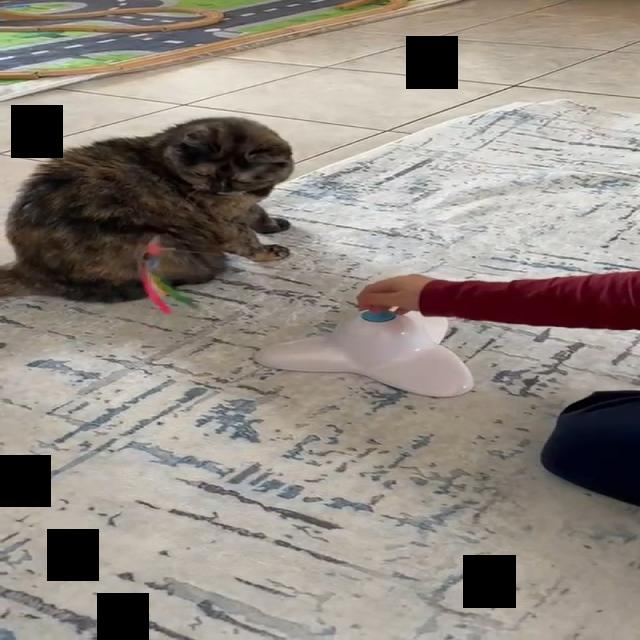authorized: (0, 115, 295, 304)
